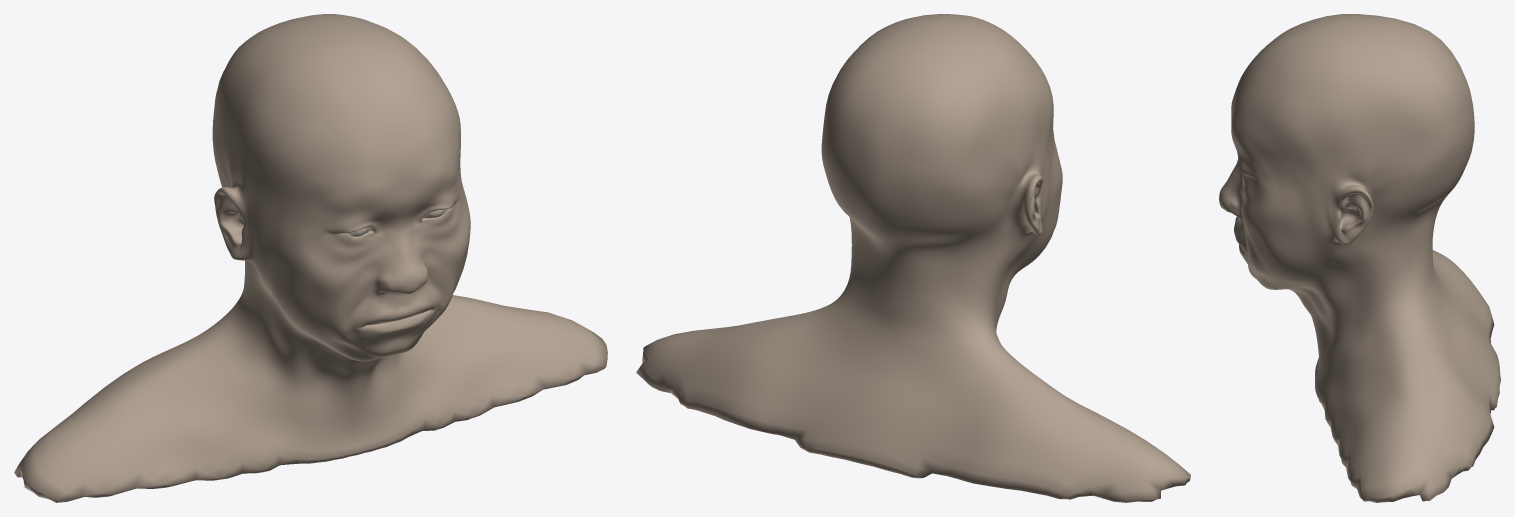
The model's file is director_wu.glb.
The picture shows the model from 3 angles, left to right: view 1: azimuth 30°, elevation 25°; view 2: azimuth 150°, elevation 25°; view 3: azimuth 270°, elevation 25°; orthographic projection. The views are drawn at different scales.
Parts seen in each view (by area): view 1: anatomy_head_and_neck; view 2: anatomy_head_and_neck; view 3: anatomy_head_and_neck.
Part boxes in pixels (x1=…): anatomy_head_and_neck: x1=14, y1=14, x2=607, y2=502; anatomy_head_and_neck: x1=636, y1=14, x2=1190, y2=502; anatomy_head_and_neck: x1=1219, y1=14, x2=1500, y2=502.
Bounding box in the file's own units: 1 × 0.6788 × 0.4823.
